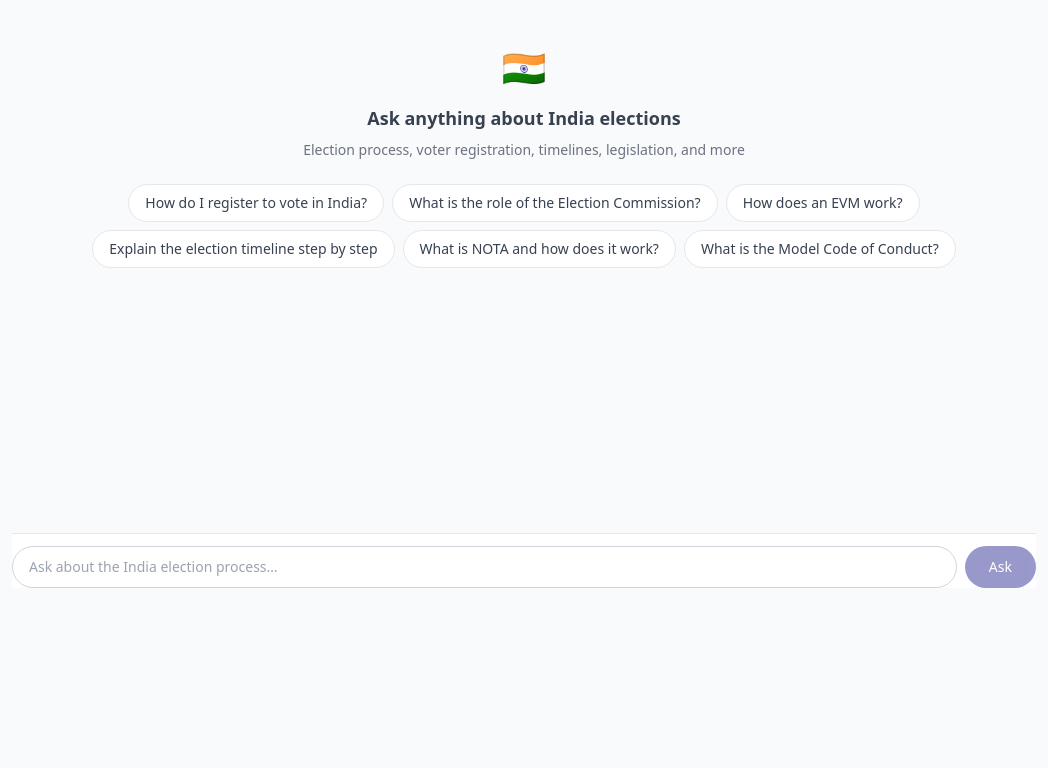
Test: Chat › sends a message and displays the response
Type "What is EVM?" into the field with placeholder "Ask about the India election process…" at (484, 567), box [12,546,957,588]
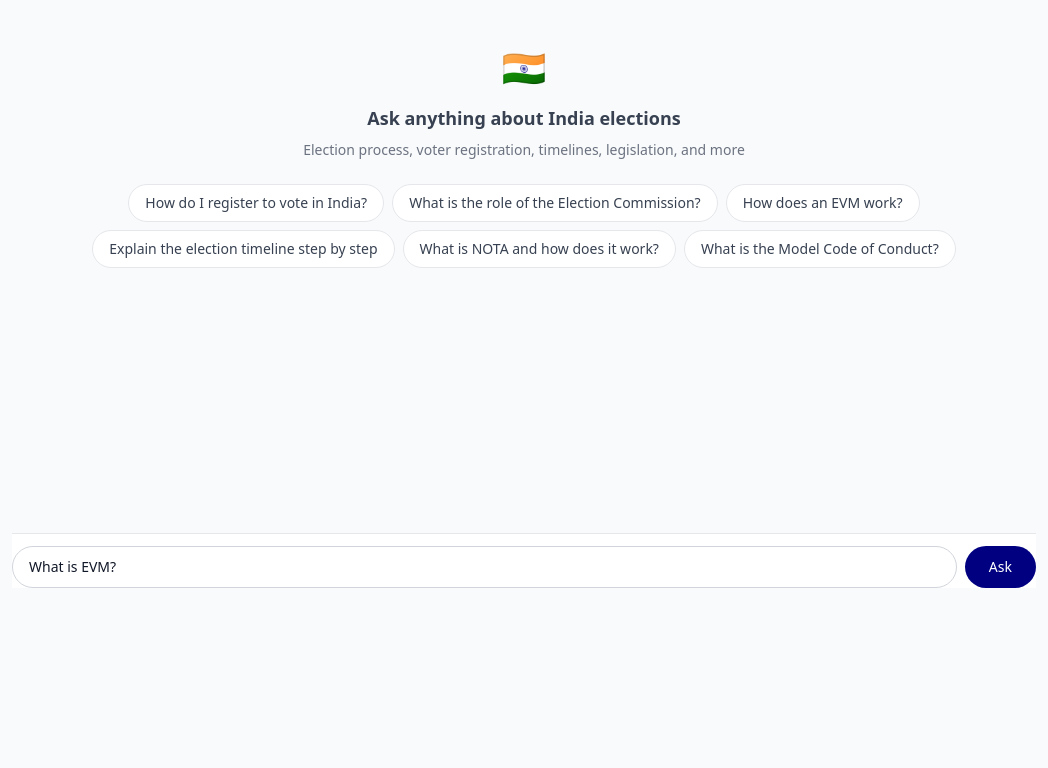
Click the button with aria-label "Submit question" at (1000, 567), box [965,546,1036,588]
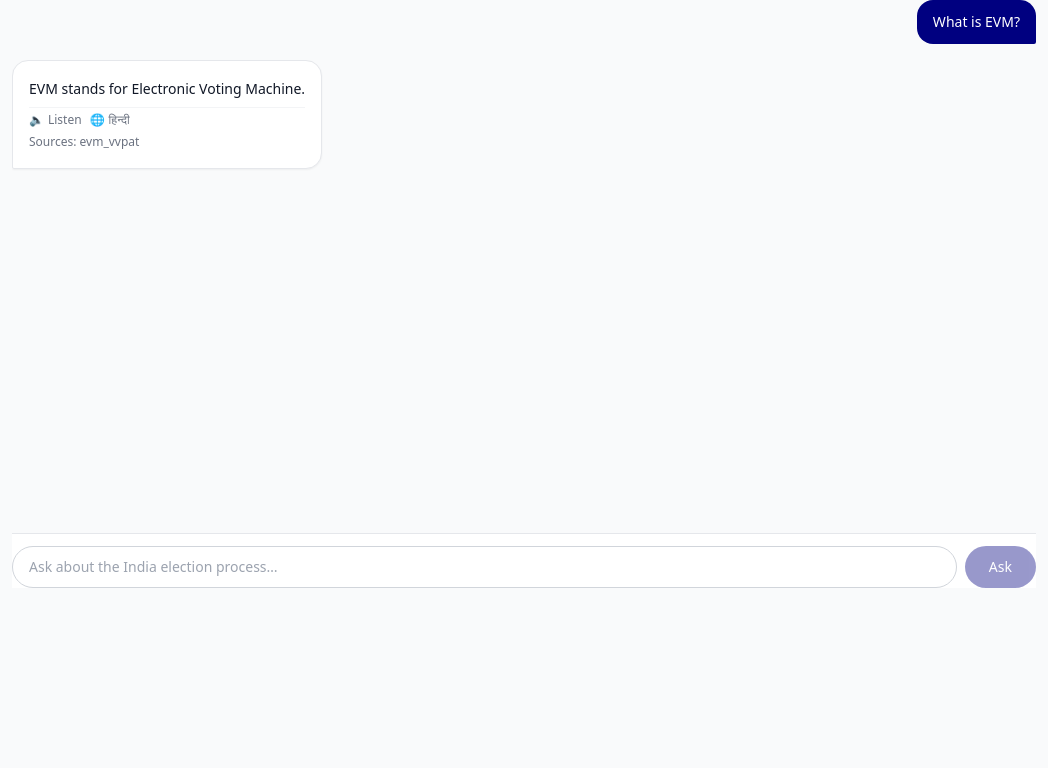
Expected: the text "What is EVM?" is shown, [933,12,1020,32]
Expected: the text "EVM stands for Electronic Voting Machine." is shown, [29,79,305,99]
